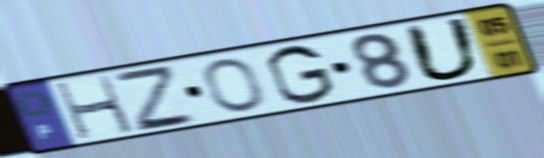8: (349, 31, 414, 92)
G: (263, 43, 338, 107)
H: (52, 72, 138, 142)
O: (201, 56, 269, 113)
U: (400, 14, 484, 83)
Z: (108, 64, 202, 135)
